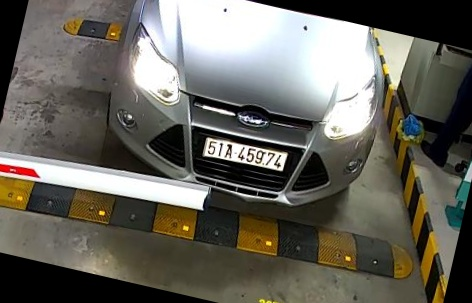plate: (202, 134, 291, 174)
